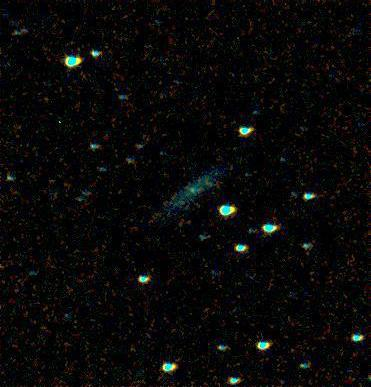star: (200, 159, 230, 189)
